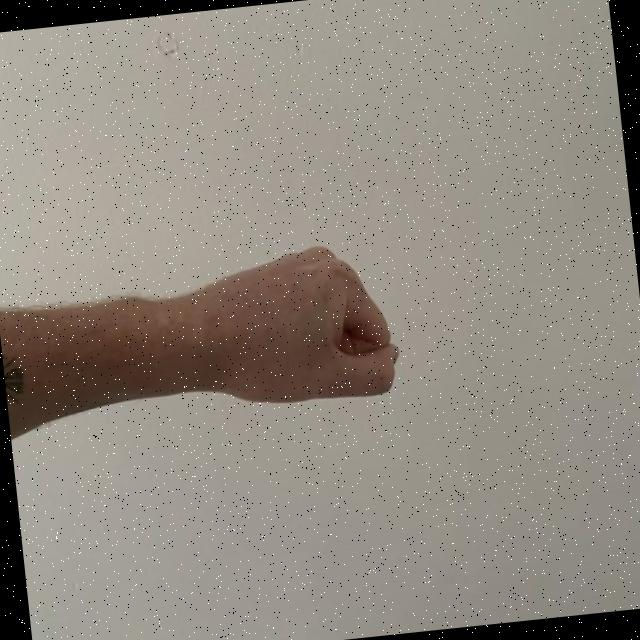rock: (182, 234, 410, 421)
